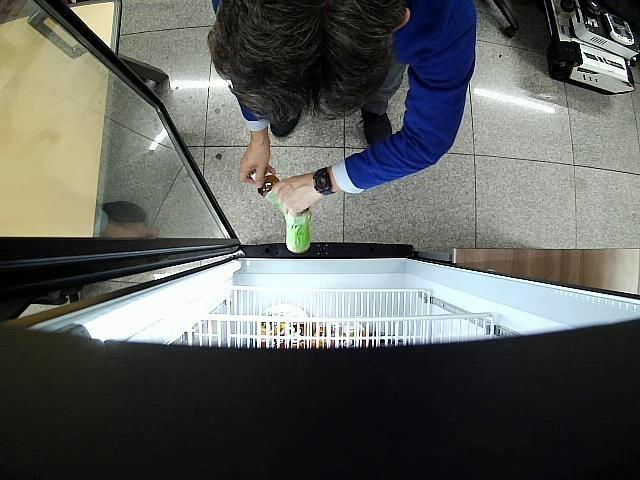19_17cha: (250, 172, 289, 214), (284, 208, 311, 254)
